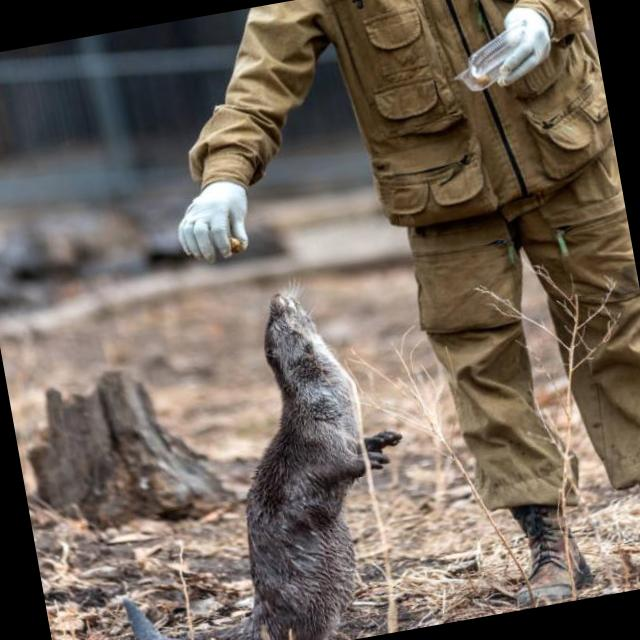Gloves: (440, 0, 561, 99), (164, 174, 259, 270)
